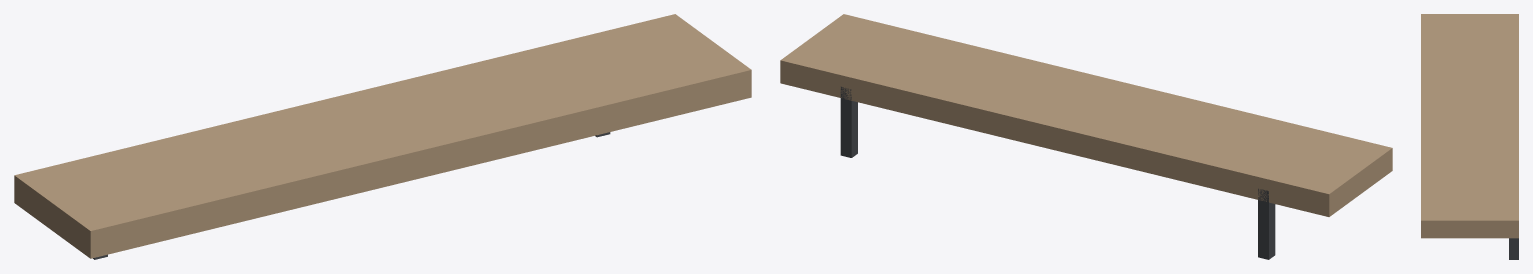
The model's file is wall_shelf.glb.
3 views of the same model, side by side, from view 1: azimuth 30°, elevation 25°; view 2: azimuth 150°, elevation 25°; view 3: azimuth 270°, elevation 25° (orthographic). The views are drawn at different scales.
Visible parts, largest first — view 1: wall_shelf; view 2: wall_shelf; view 3: wall_shelf.
Part boxes in pixels (x1=…): wall_shelf: x1=14, y1=14, x2=751, y2=259; wall_shelf: x1=780, y1=14, x2=1392, y2=259; wall_shelf: x1=1421, y1=14, x2=1518, y2=259.
Size of the model in its own units: 1 by 0.14 by 0.2.
